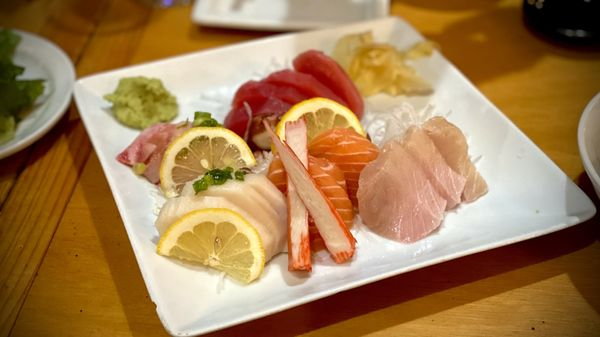pizza: (522, 1, 600, 45)
sushi: (0, 28, 76, 162)
